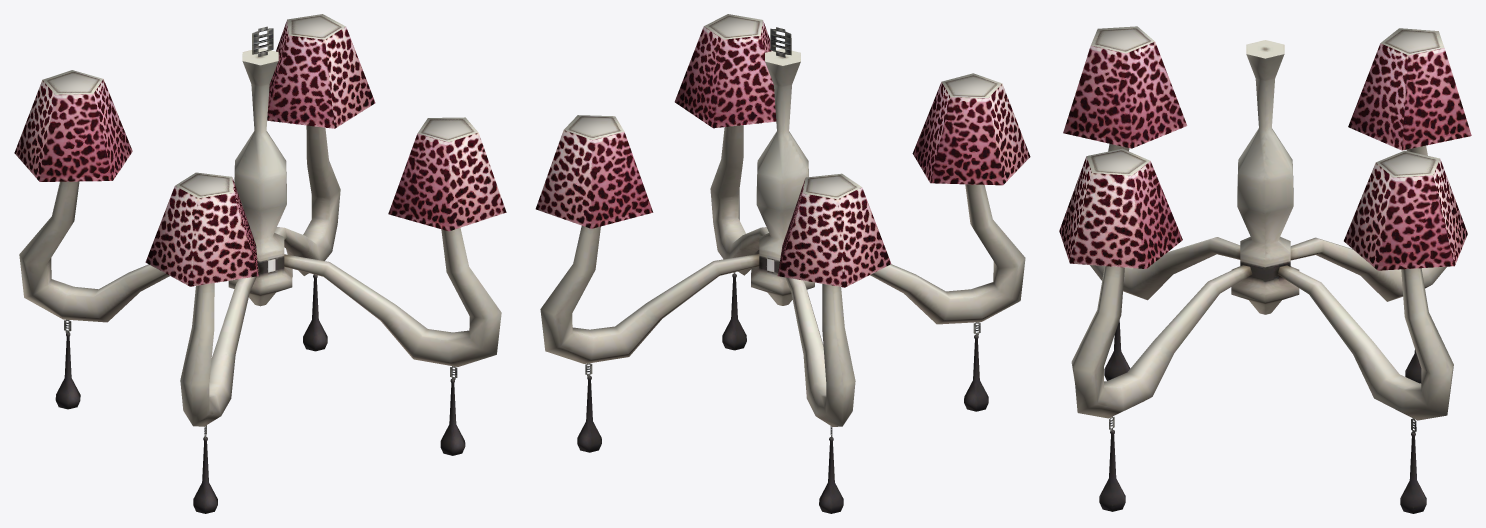
The model's file is furni_0200082_02.FBX.
3 views of the same model, side by side, from view 1: azimuth 30°, elevation 25°; view 2: azimuth 150°, elevation 25°; view 3: azimuth 270°, elevation 25° (orthographic). The views are drawn at different scales.
Visible parts, largest first — view 1: furni_0200082_02; view 2: furni_0200082_02; view 3: furni_0200082_02.
Boxes of the visible parts, x1,y1,x2,y2 form: furni_0200082_02: (14, 14, 506, 513); furni_0200082_02: (535, 14, 1030, 513); furni_0200082_02: (1059, 26, 1471, 513).
Size of the model in its own units: 71.72 by 82.49 by 71.72.
1 material, 1 textured.
